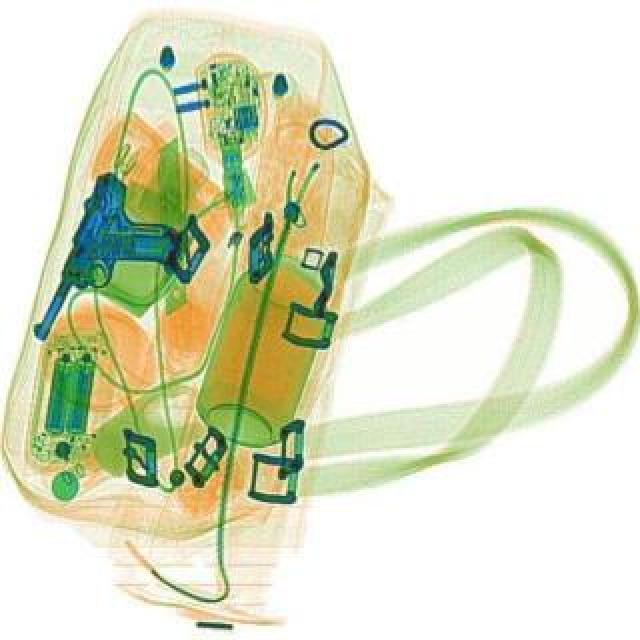gun: (26, 166, 198, 370)
